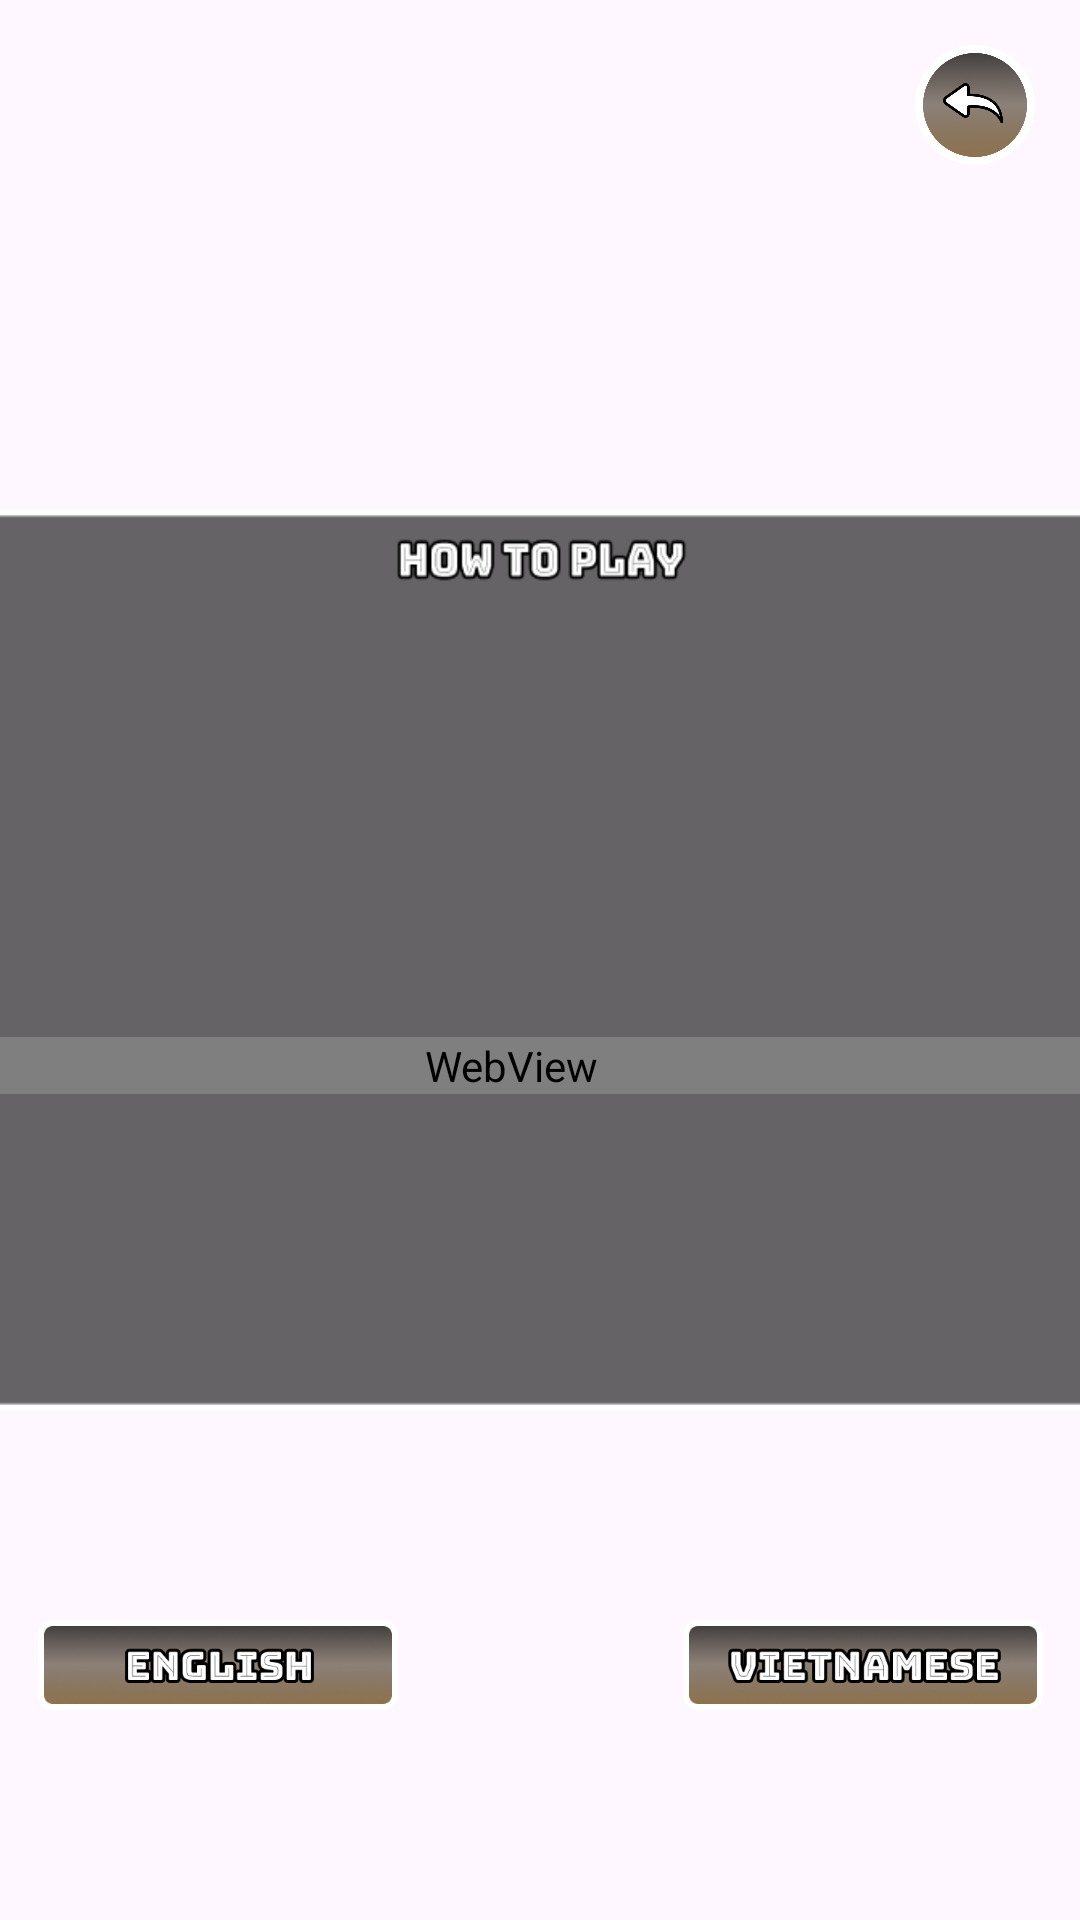

Screen size 1080 × 1920. Icon name, then its box in pixels as (x1, y1, x2, y2):
back: (923, 53, 1027, 157)
